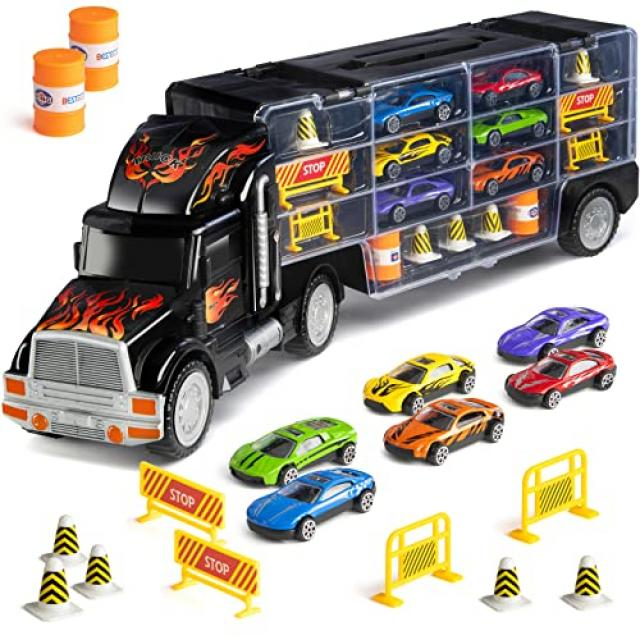car: (503, 320, 632, 437), (257, 460, 380, 557), (488, 281, 626, 359), (229, 407, 359, 487), (346, 344, 476, 421), (400, 391, 501, 476), (364, 127, 476, 185), (380, 165, 466, 238), (475, 138, 558, 211), (366, 73, 459, 135), (464, 60, 555, 119), (465, 113, 574, 152)
truck: (0, 8, 372, 436)
